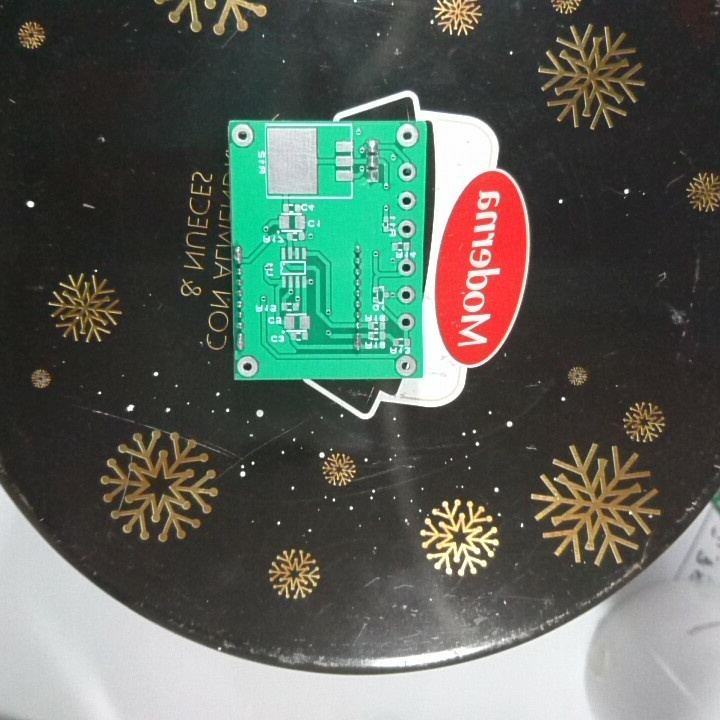F: (229, 121, 257, 150), (394, 122, 421, 149), (235, 353, 262, 380), (393, 353, 418, 377), (396, 160, 419, 183), (396, 189, 418, 211), (396, 284, 417, 306), (395, 311, 417, 332), (394, 218, 417, 238), (395, 258, 416, 278)
P: (232, 241, 243, 264), (235, 332, 246, 352), (352, 330, 362, 352)
